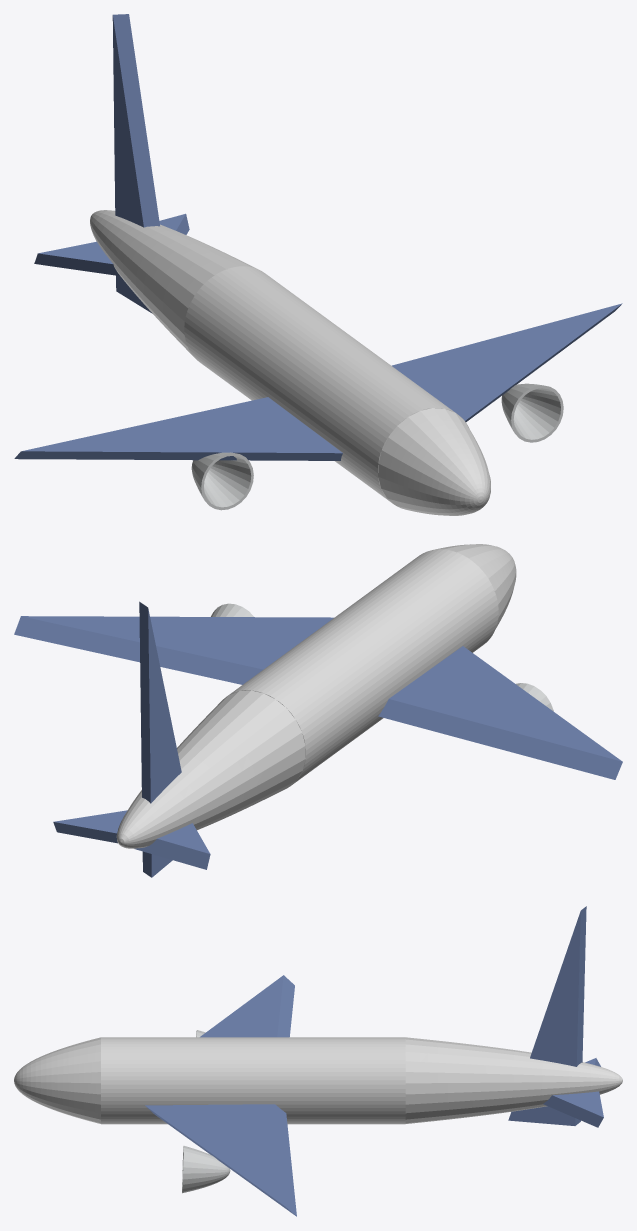
Rendered from Avión.glb.
3 renders of one model, top to bottom at view 1: azimuth 30°, elevation 25°; view 2: azimuth 150°, elevation 25°; view 3: azimuth 270°, elevation 25°, orthographic. The views are drawn at different scales.
Visible parts, largest first — view 1: Mesh_Mesh_head_geo.001_lambert2SG.001; view 2: Mesh_Mesh_head_geo.001_lambert2SG.001; view 3: Mesh_Mesh_head_geo.001_lambert2SG.001.
Part boxes in pixels (box(x1,y1,x2,y2)): Mesh_Mesh_head_geo.001_lambert2SG.001: box(14, 14, 622, 515); Mesh_Mesh_head_geo.001_lambert2SG.001: box(14, 544, 622, 877); Mesh_Mesh_head_geo.001_lambert2SG.001: box(14, 906, 622, 1216).
Bounding box in the file's own units: 0.126 × 0.056 × 0.14.
